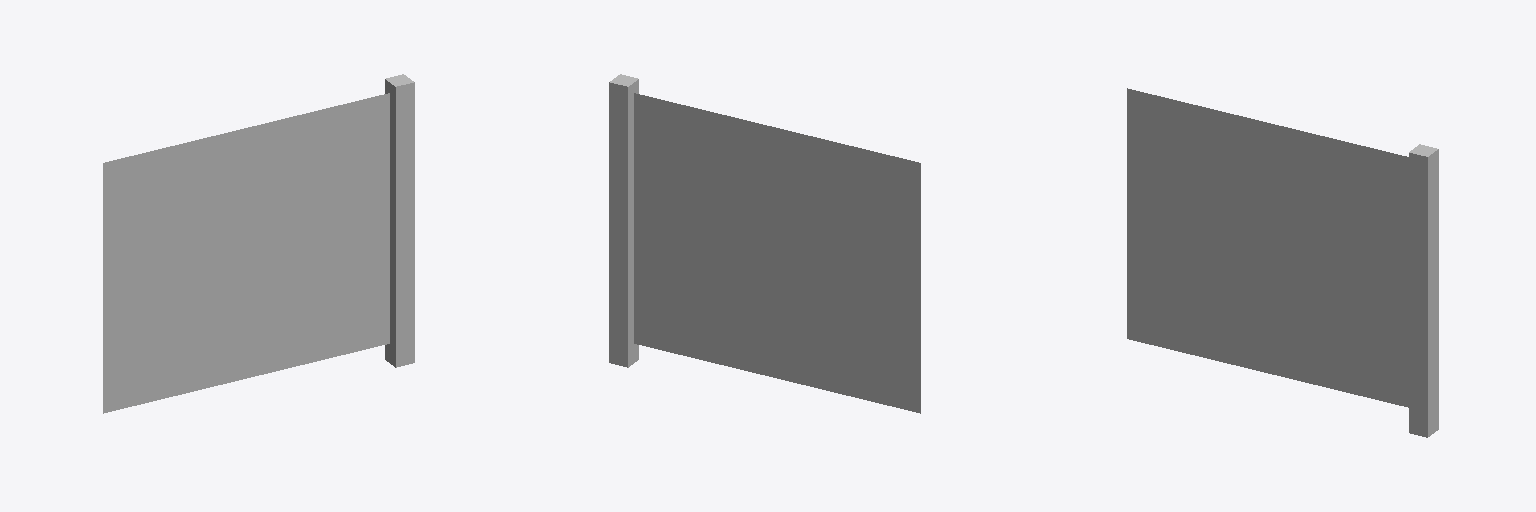
File: cerca_verde_portao.obj
3 views of the same model, side by side, from view 1: azimuth 30°, elevation 25°; view 2: azimuth 150°, elevation 25°; view 3: azimuth 330°, elevation 25° (orthographic).
Visible parts, largest first — view 1: grade1; view 2: grade1; view 3: grade1.
Boxes of the visible parts, <box> form: grade1: <box>103,74,414,413</box>; grade1: <box>609,74,920,413</box>; grade1: <box>1127,88,1438,437</box>.
Bounding box in the file's own units: 2 × 1.75 × 0.125.